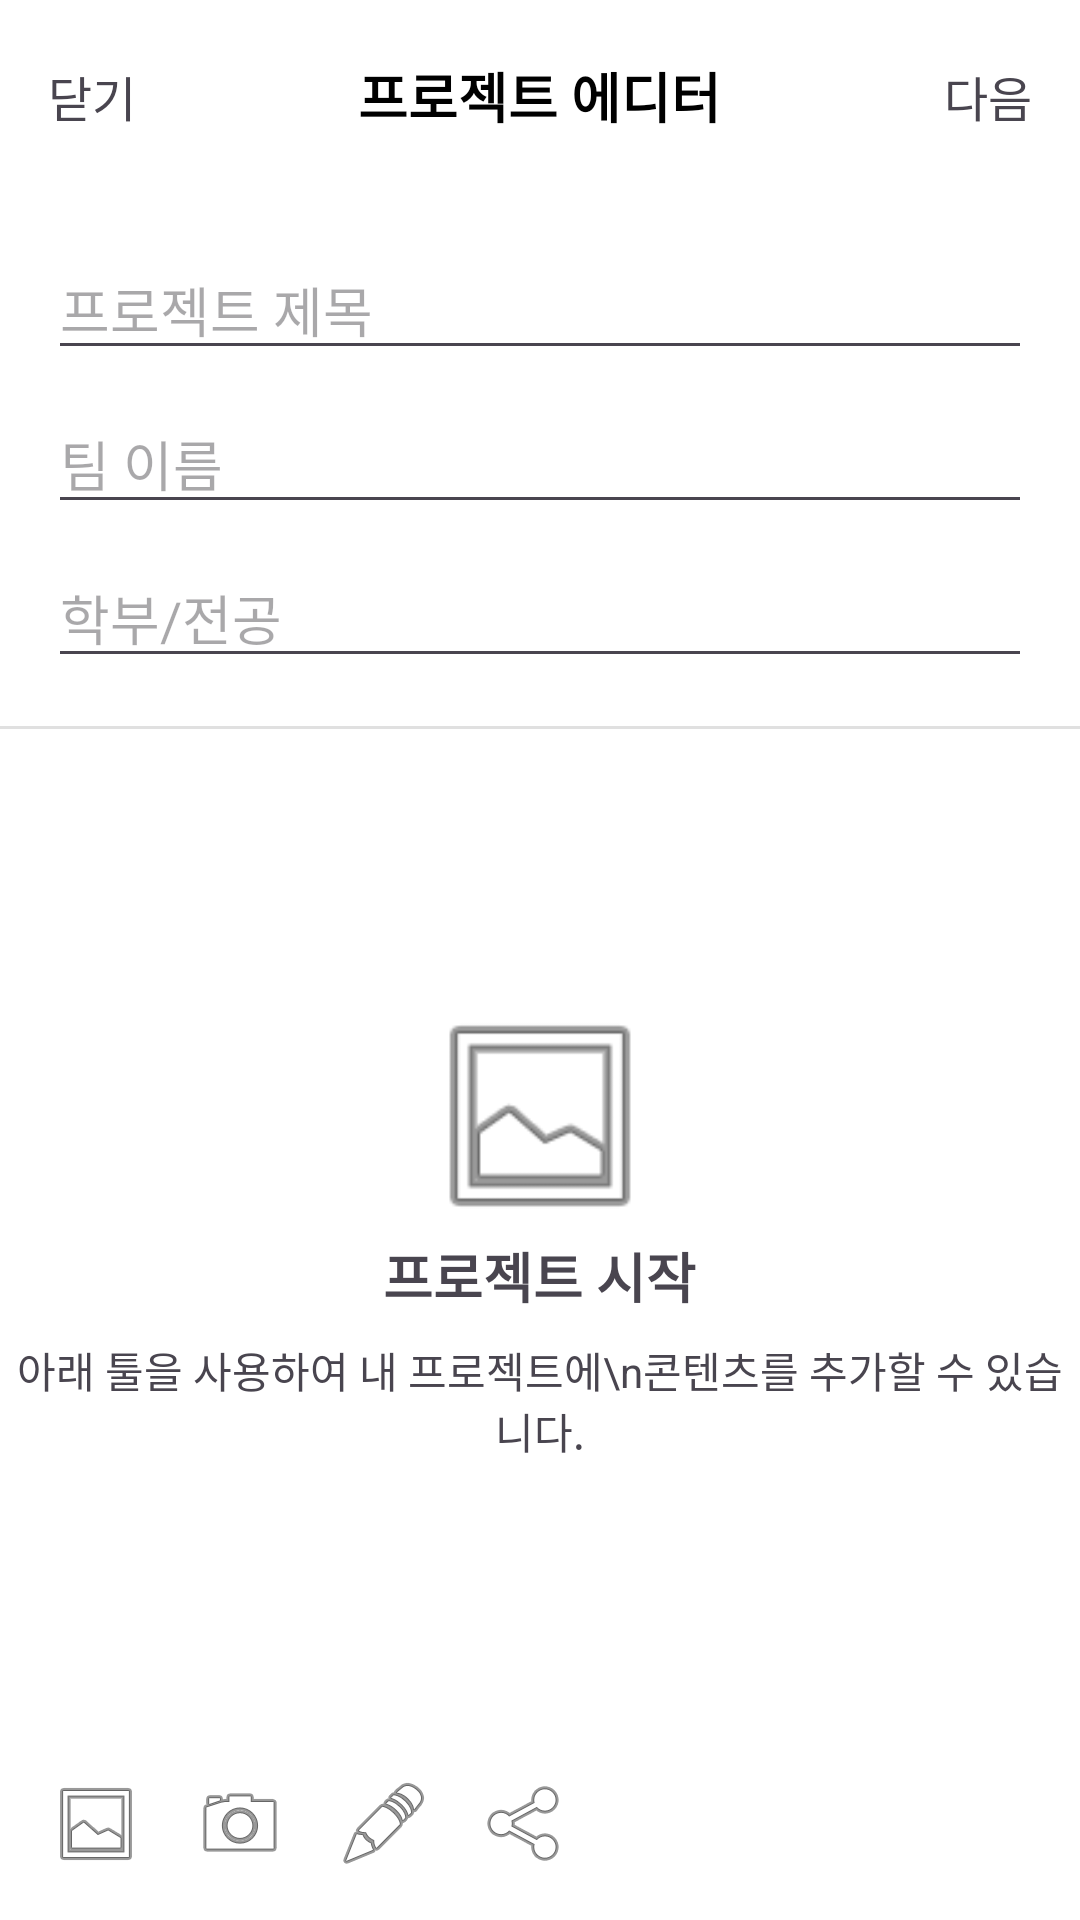

Screen size 1080w x 1920h. Icon name, then its box in pixels as bbox=[x1, y1, x2, y2]:
camera: bbox=[203, 1793, 277, 1852]
edit: bbox=[343, 1783, 424, 1864]
gallery: bbox=[449, 1025, 631, 1207], bbox=[60, 1788, 132, 1860]
share: bbox=[487, 1786, 559, 1861]
